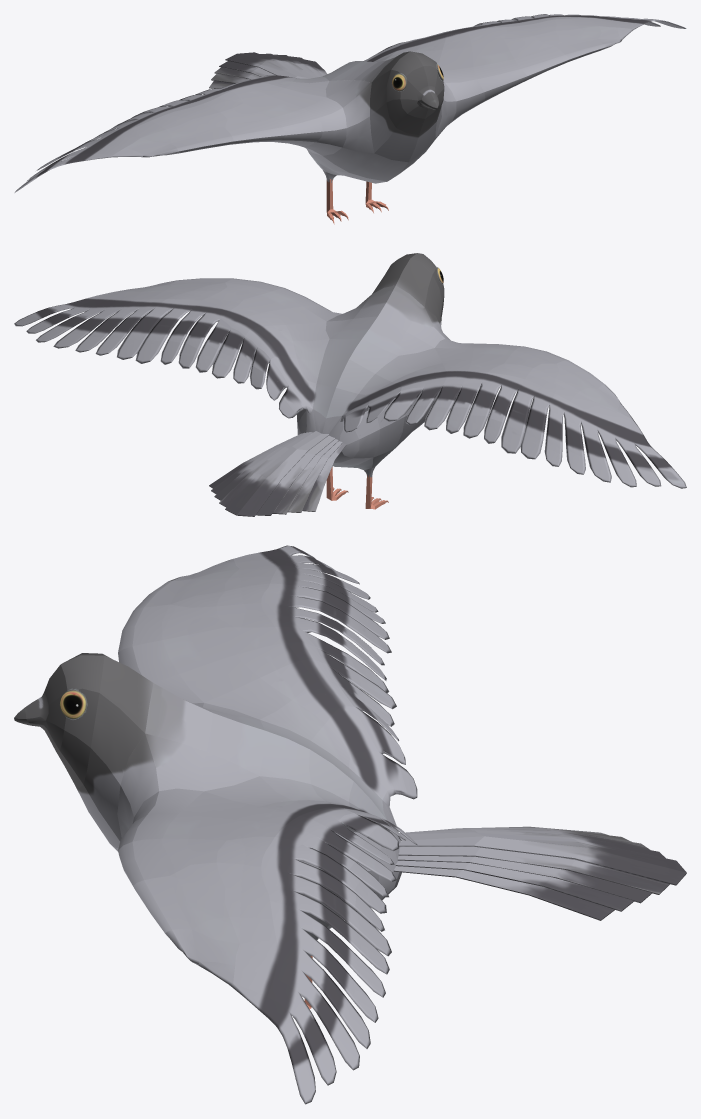
File: Pidgeon_Static.fbx
3 renders of one model, top to bottom at view 1: azimuth 30°, elevation 25°; view 2: azimuth 150°, elevation 25°; view 3: azimuth 270°, elevation 25°, orthographic. The views are drawn at different scales.
Parts seen in each view (by area): view 1: Pidgeon; view 2: Pidgeon; view 3: Pidgeon.
Part boxes in pixels (x1=…): Pidgeon: x1=14, y1=14, x2=686, y2=224; Pidgeon: x1=14, y1=253, x2=686, y2=516; Pidgeon: x1=14, y1=545, x2=686, y2=1104.
Size of the model in its own units: 459 by 132 by 237.
